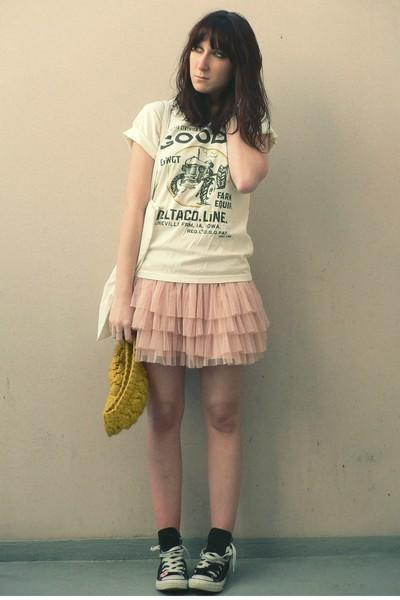bag: (100, 328, 149, 436)
shirt: (124, 99, 286, 287)
shoe: (156, 527, 232, 587)
skirt: (118, 278, 265, 367)
